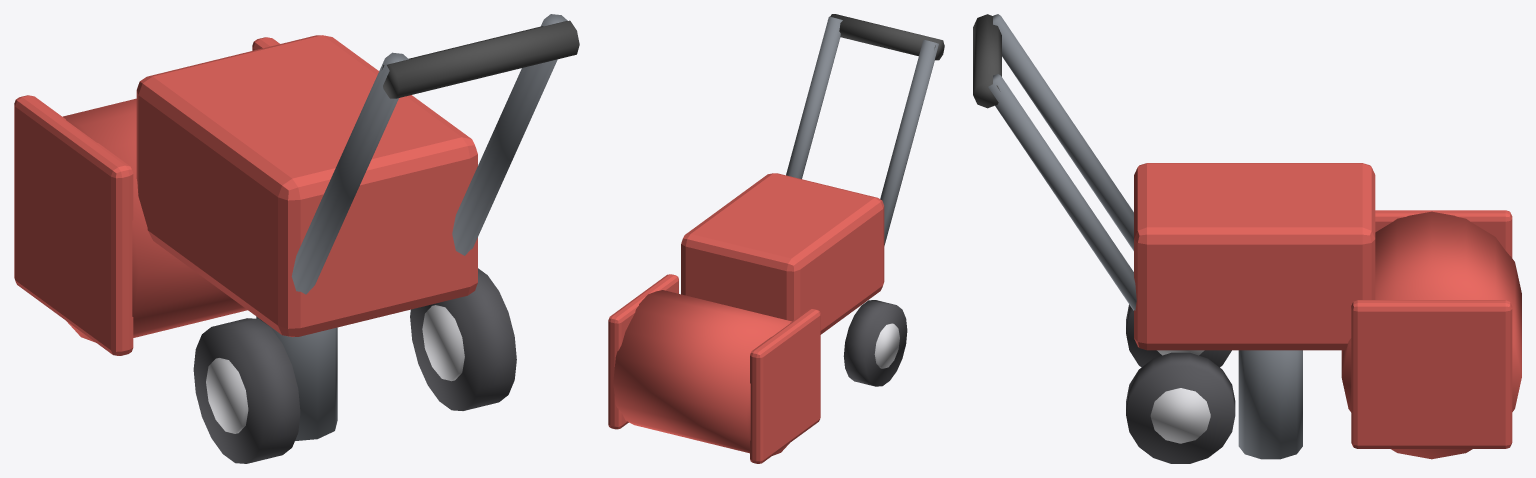
Rendered from blower.glb.
The picture shows the model from 3 angles, left to right: view 1: azimuth 30°, elevation 25°; view 2: azimuth 150°, elevation 25°; view 3: azimuth 270°, elevation 25°; orthographic projection. The views are drawn at different scales.
Parts seen in each view (by area): view 1: body, scoopR, wheel1, drum, wheel0, grip, handle_r, handle_l, chute1, wheel0_hub, wheel1_hub; view 2: body, drum, scoopR, wheel1, handle_r, handle_l, scoopL, grip, wheel1_hub; view 3: body, scoopL, drum, wheel0, chute1, handle_l, handle_r, wheel0_hub, grip, scoopR, wheel1.
Part boxes in pixels (x1,y1,x2,y2): body: (136,35,477,337); scoopR: (14,95,133,355); wheel1: (193,318,300,463); drum: (63,98,247,342); wheel0: (410,268,516,410); grip: (382,20,579,98); handle_r: (291,52,408,294); handle_l: (452,14,567,255); chute1: (256,316,337,440); wheel0_hub: (422,305,464,381); wheel1_hub: (206,358,248,433); body: (681,173,884,334); drum: (613,290,791,455); scoopR: (750,309,820,463); wheel1: (843,300,907,386); handle_r: (880,39,938,245); handle_l: (786,16,842,178); scoopL: (608,274,678,429); grip: (830,14,944,60); wheel1_hub: (874,323,899,368); body: (1134,163,1375,350); scoopL: (1351,300,1512,448); drum: (1341,211,1521,459); wheel0: (1126,352,1235,463); chute1: (1238,350,1302,459); handle_l: (988,74,1136,310); handle_r: (993,14,1133,250); wheel0_hub: (1150,388,1210,443); grip: (973,14,1001,108); scoopR: (1375,210,1512,257); wheel1: (1126,304,1231,367).
Size of the model in its own units: 0.72 by 1.37 by 1.7.
